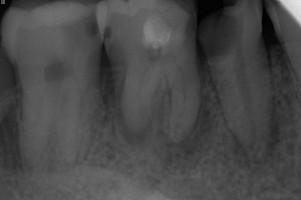Furcation Involvement: (167, 95, 215, 170), (230, 118, 281, 171), (122, 121, 152, 144)
